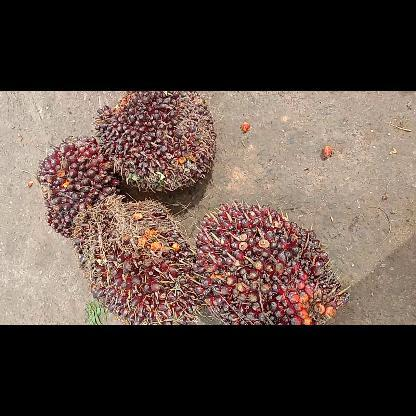Kurang masak: (187, 200, 349, 324), (84, 200, 202, 324), (94, 91, 216, 191), (37, 135, 119, 237)
